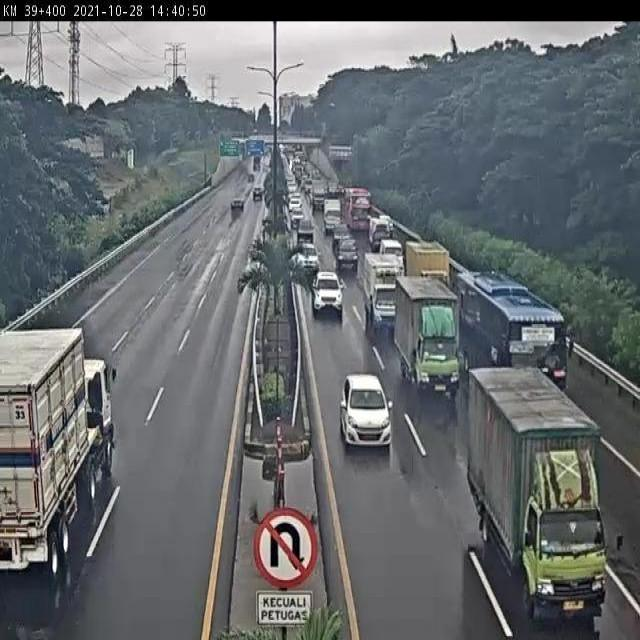mid truck: (461, 363, 621, 636)
